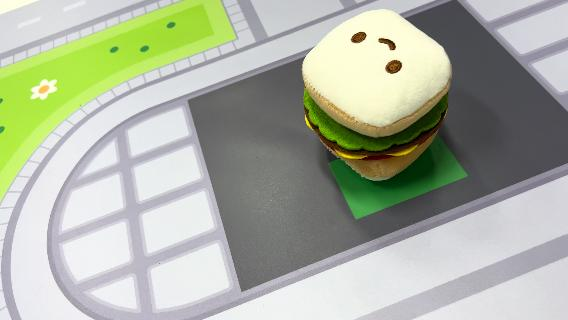sandwich: (299, 8, 455, 182)
